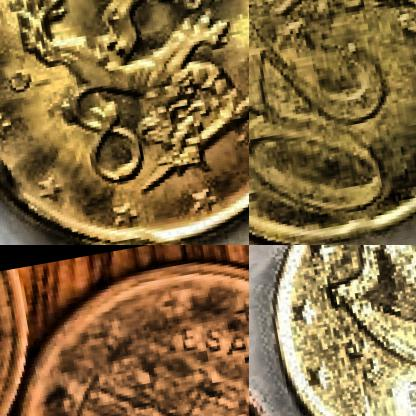coin: (0, 0, 248, 244), (0, 245, 248, 415), (249, 0, 415, 244), (249, 245, 415, 415)
